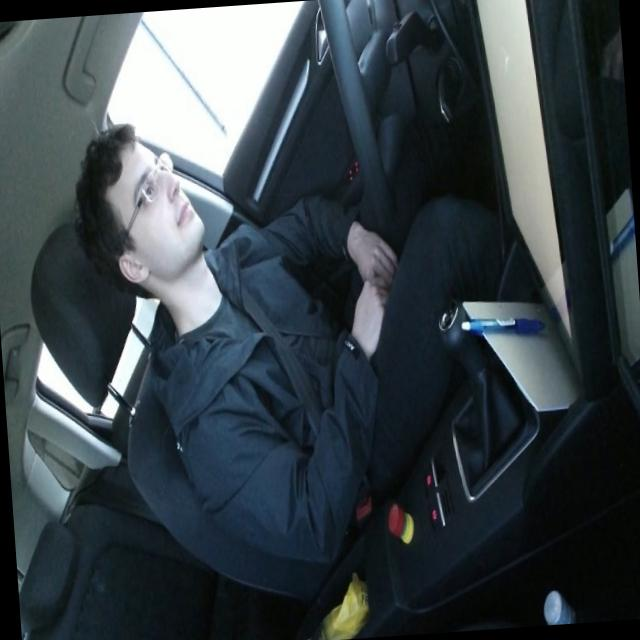pen: (460, 311, 544, 339)
